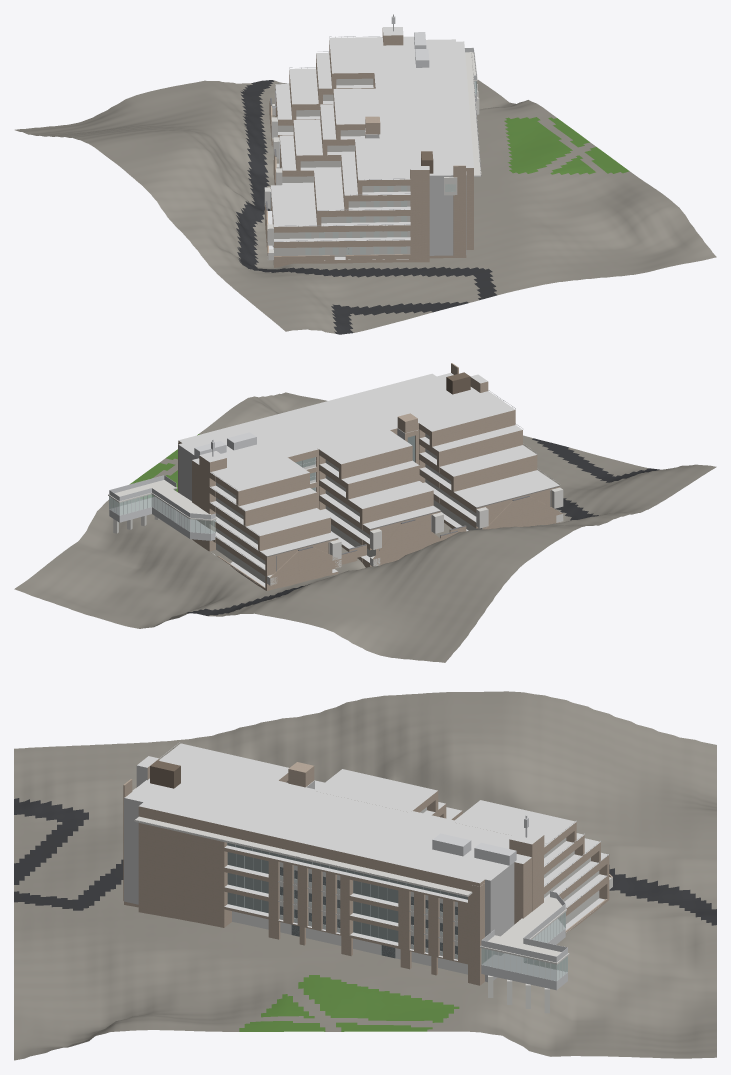
Rendered from kyotsu-minami.glb.
The picture shows the model from 3 angles, top to bottom: view 1: azimuth 30°, elevation 25°; view 2: azimuth 150°, elevation 25°; view 3: azimuth 270°, elevation 25°; orthographic projection. The views are drawn at different scales.
Visible parts, largest first — view 1: terrain, kyotsu-minami_B_低層, band_f13_0, composite_34_east_pier, band_f13_5, composite_26_eave, band_f13_9; view 2: terrain, kyotsu-minami_B_低層, composite_33_panel_band, vestibule_32_roof, composite_15_wall_base, vestibule_32_glass2; view 3: terrain, kyotsu-minami_B_低層, composite_26_eave, composite_33_panel_band, composite_25_colonnade_backwall, vestibule_32_roof, vestibule_32_glass9, glazing_f17_18.003, composite_35_penthouse, rooftop_units_31_unit0, rooftop_units_31_unit1, glazing_room_f17_18.003 (+1 smaller).
Part boxes in pixels (box(x1,y1,x2,y2)): terrain: box(15, 80, 716, 334); kyotsu-minami_B_低層: box(271, 27, 473, 261); band_f13_0: box(273, 246, 410, 256); composite_34_east_pier: box(453, 165, 465, 255); band_f13_5: box(274, 231, 410, 238); composite_26_eave: box(465, 52, 481, 176); band_f13_9: box(321, 216, 410, 223); terrain: box(14, 392, 716, 662); kyotsu-minami_B_低層: box(178, 373, 559, 590); composite_33_panel_band: box(109, 497, 215, 540); vestibule_32_roof: box(108, 480, 216, 520); composite_15_wall_base: box(270, 560, 341, 584); vestibule_32_glass2: box(152, 495, 189, 531); terrain: box(14, 691, 716, 1060); kyotsu-minami_B_低層: box(124, 743, 609, 985); composite_26_eave: box(134, 816, 472, 896); composite_33_panel_band: box(481, 919, 567, 990); composite_25_colonnade_backwall: box(232, 911, 467, 974); vestibule_32_roof: box(480, 896, 569, 964); vestibule_32_glass9: box(481, 948, 556, 980); glazing_f17_18.003: box(227, 843, 467, 899); composite_35_penthouse: box(150, 760, 180, 788); rooftop_units_31_unit0: box(474, 842, 516, 865); rooftop_units_31_unit1: box(432, 833, 471, 856); glazing_room_f17_18.003: box(227, 843, 467, 899).
Size of the model in its own units: 120 by 36.35 by 131.
73 materials, 15 textured.
